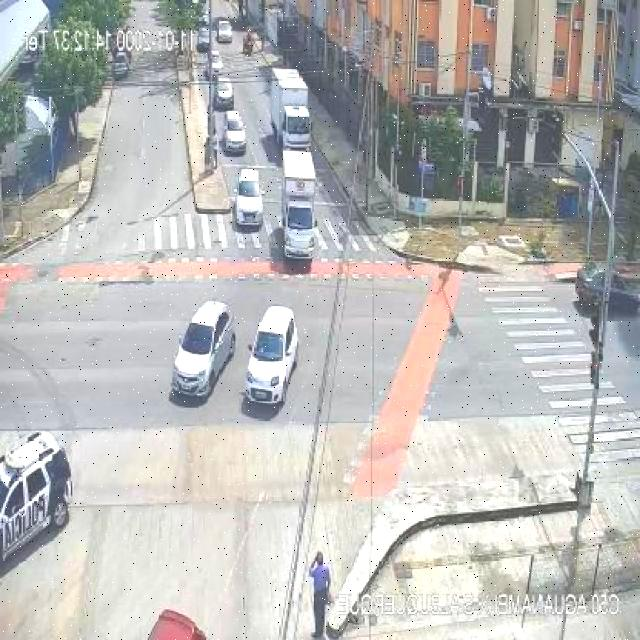Car: (1, 430, 72, 576), (171, 300, 235, 400), (244, 306, 299, 406), (578, 263, 638, 311), (235, 166, 264, 226), (222, 111, 247, 154), (214, 79, 234, 108), (18, 46, 40, 72), (204, 52, 224, 80), (111, 52, 130, 80), (215, 20, 232, 42), (197, 26, 210, 52)
Truck: (280, 148, 318, 260), (267, 67, 309, 152)
